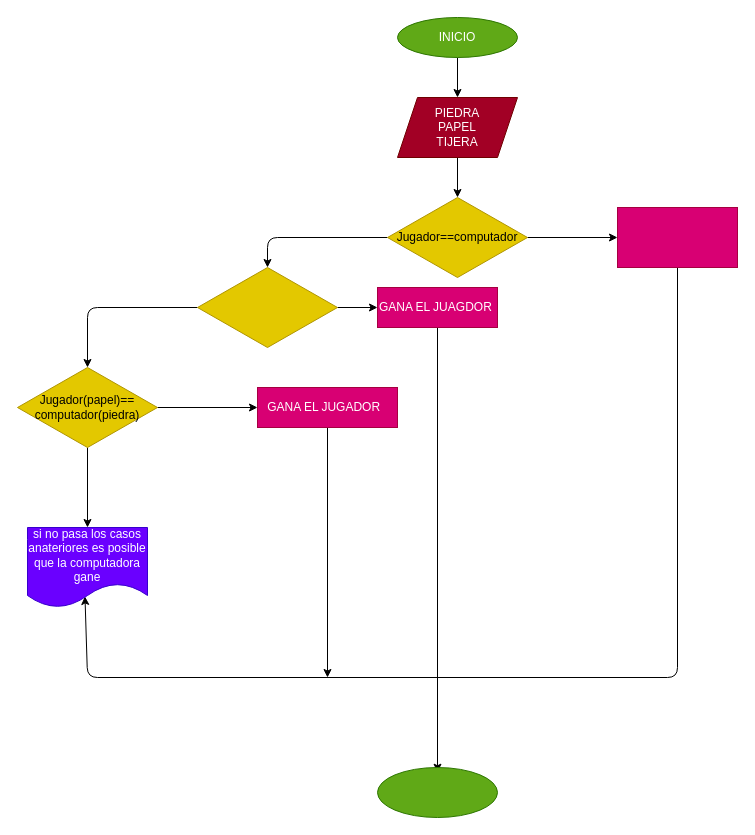
Image size: 755x835. Some labels were removed from this diagram. The shapes that lost their labels are listed below. From the top down, each one's centre as x and y in pixels, then its label:
At (x=677, y=237): "EMPATE".
At (x=267, y=307): "Jugador(piedra)== computador(tijera)".
At (x=437, y=792): "FIN".
